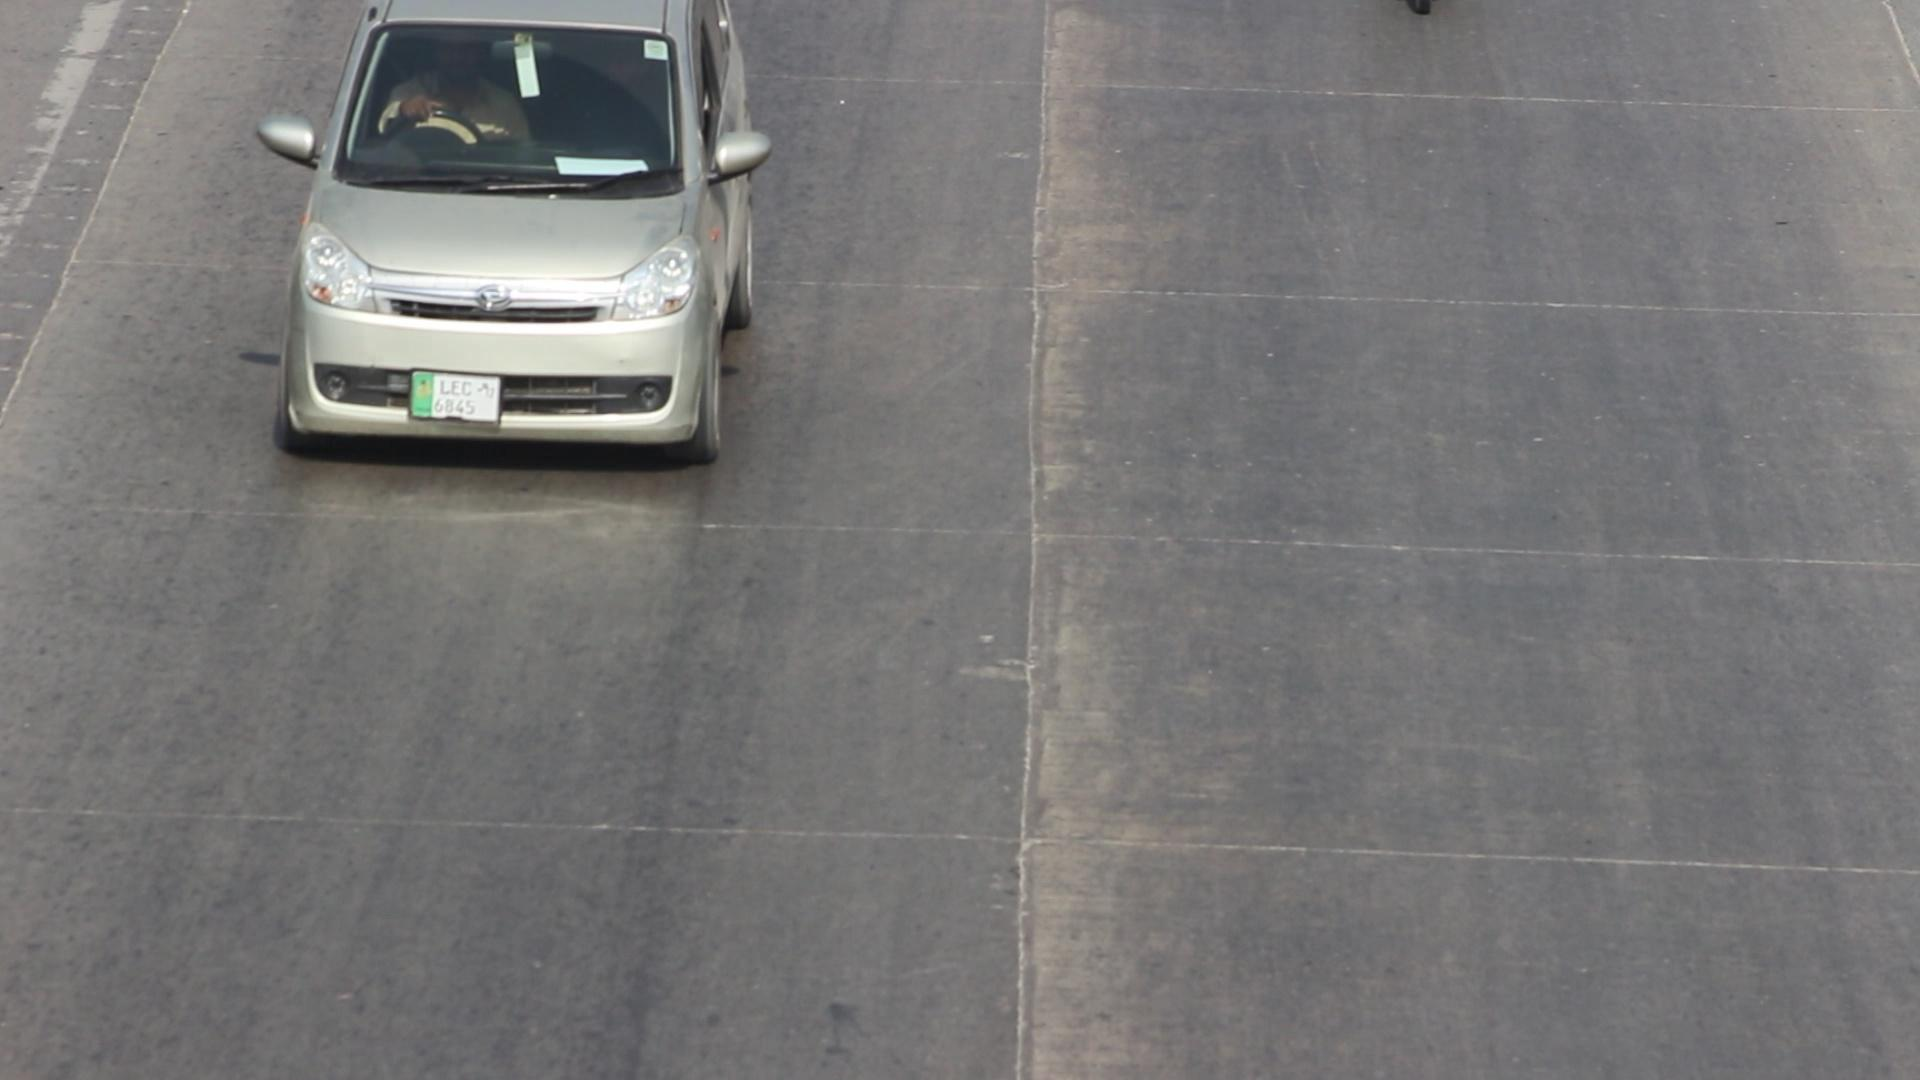windshield: (320, 11, 687, 200)
